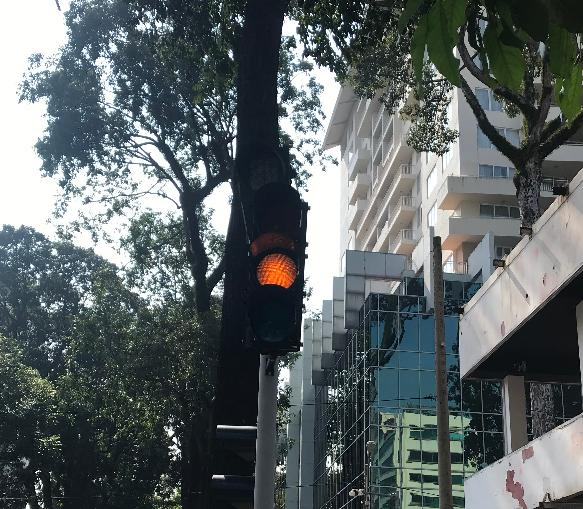yellow_light: (245, 182, 307, 352)
